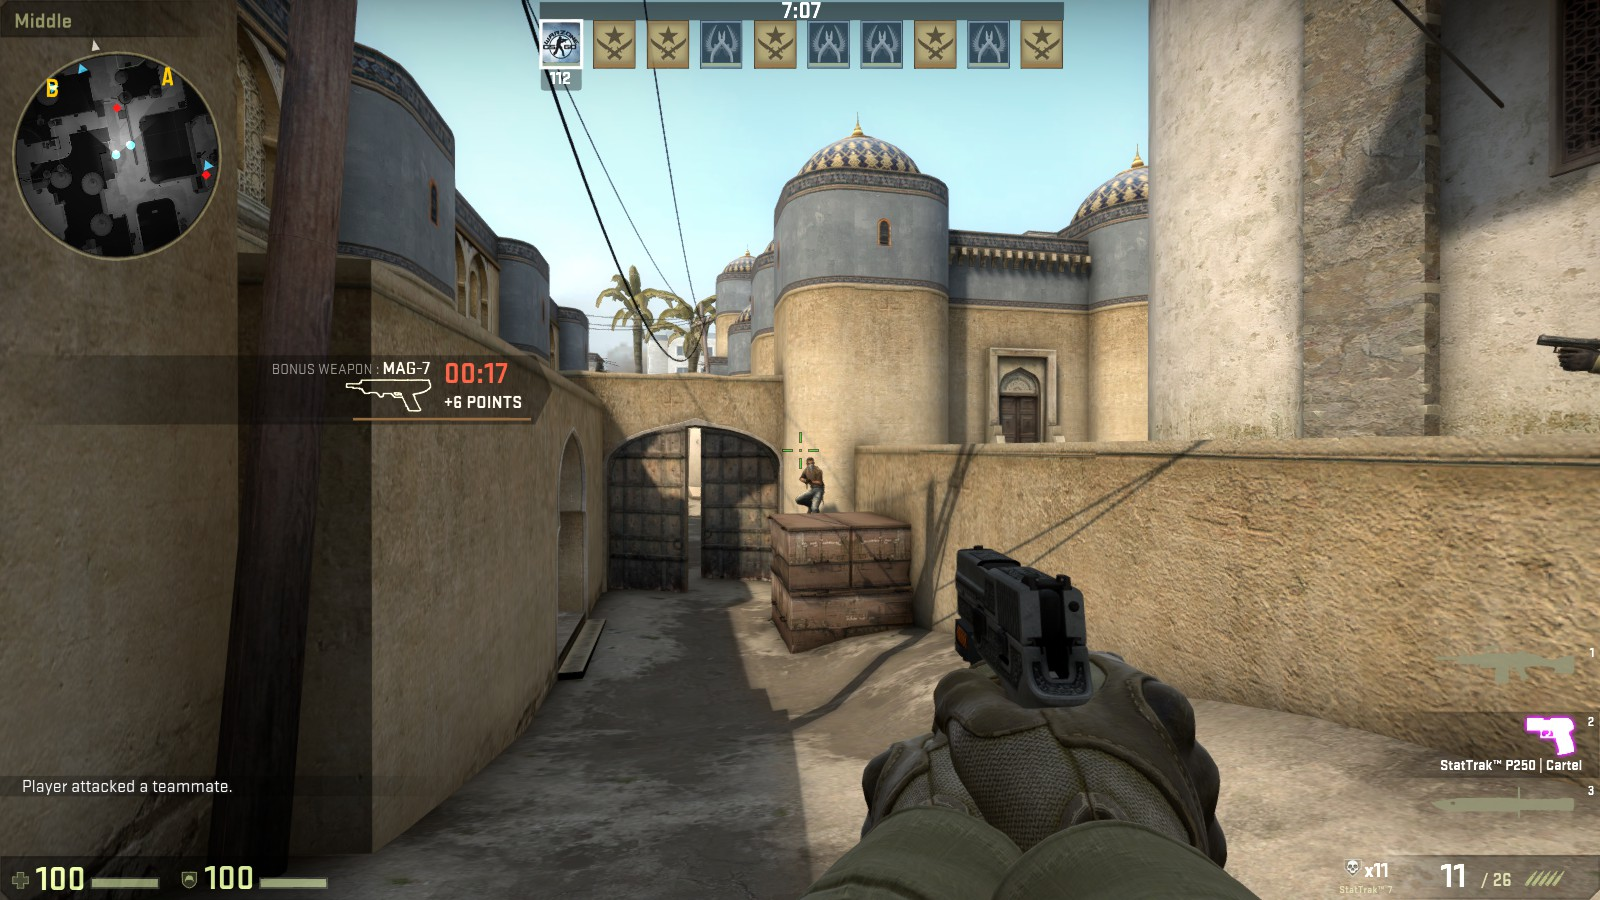t: (800, 456, 824, 516)
th: (805, 457, 816, 471)
